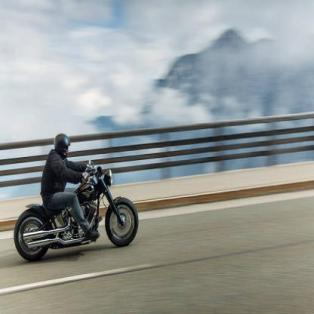Motocicleta: (12, 166, 140, 260)
